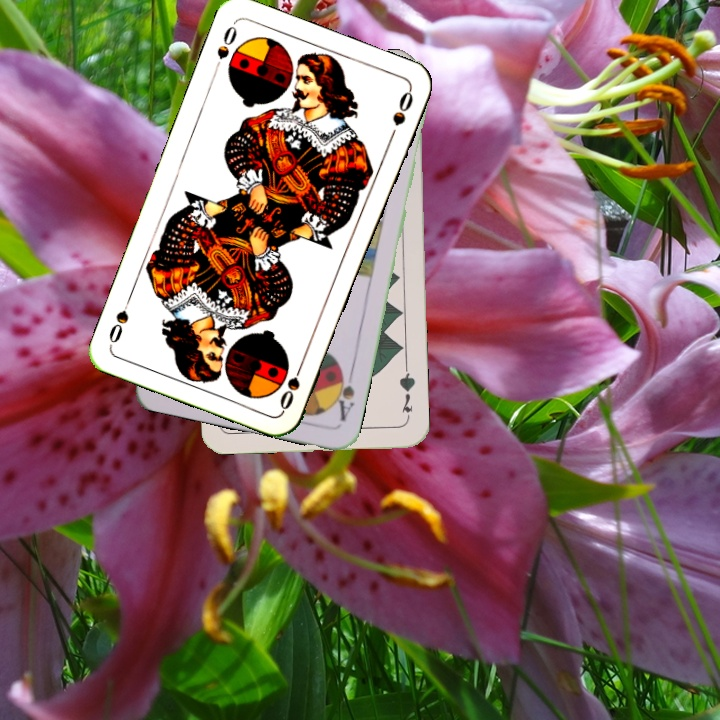G7: (395, 364, 418, 423)
SA: (329, 365, 357, 424)
SO: (275, 356, 307, 413), (210, 19, 240, 76)
